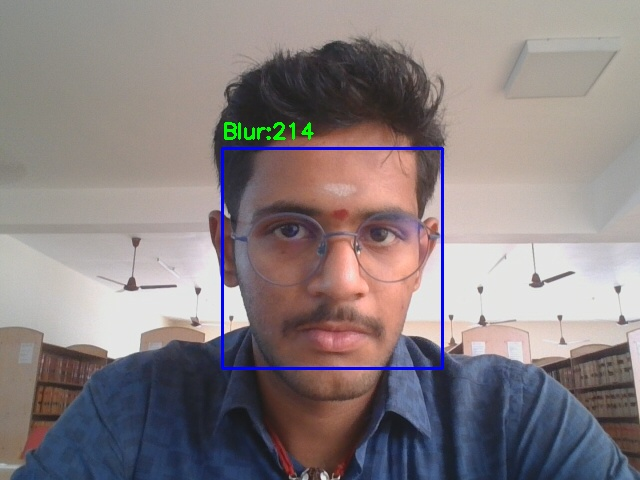real: (222, 148, 442, 368)
